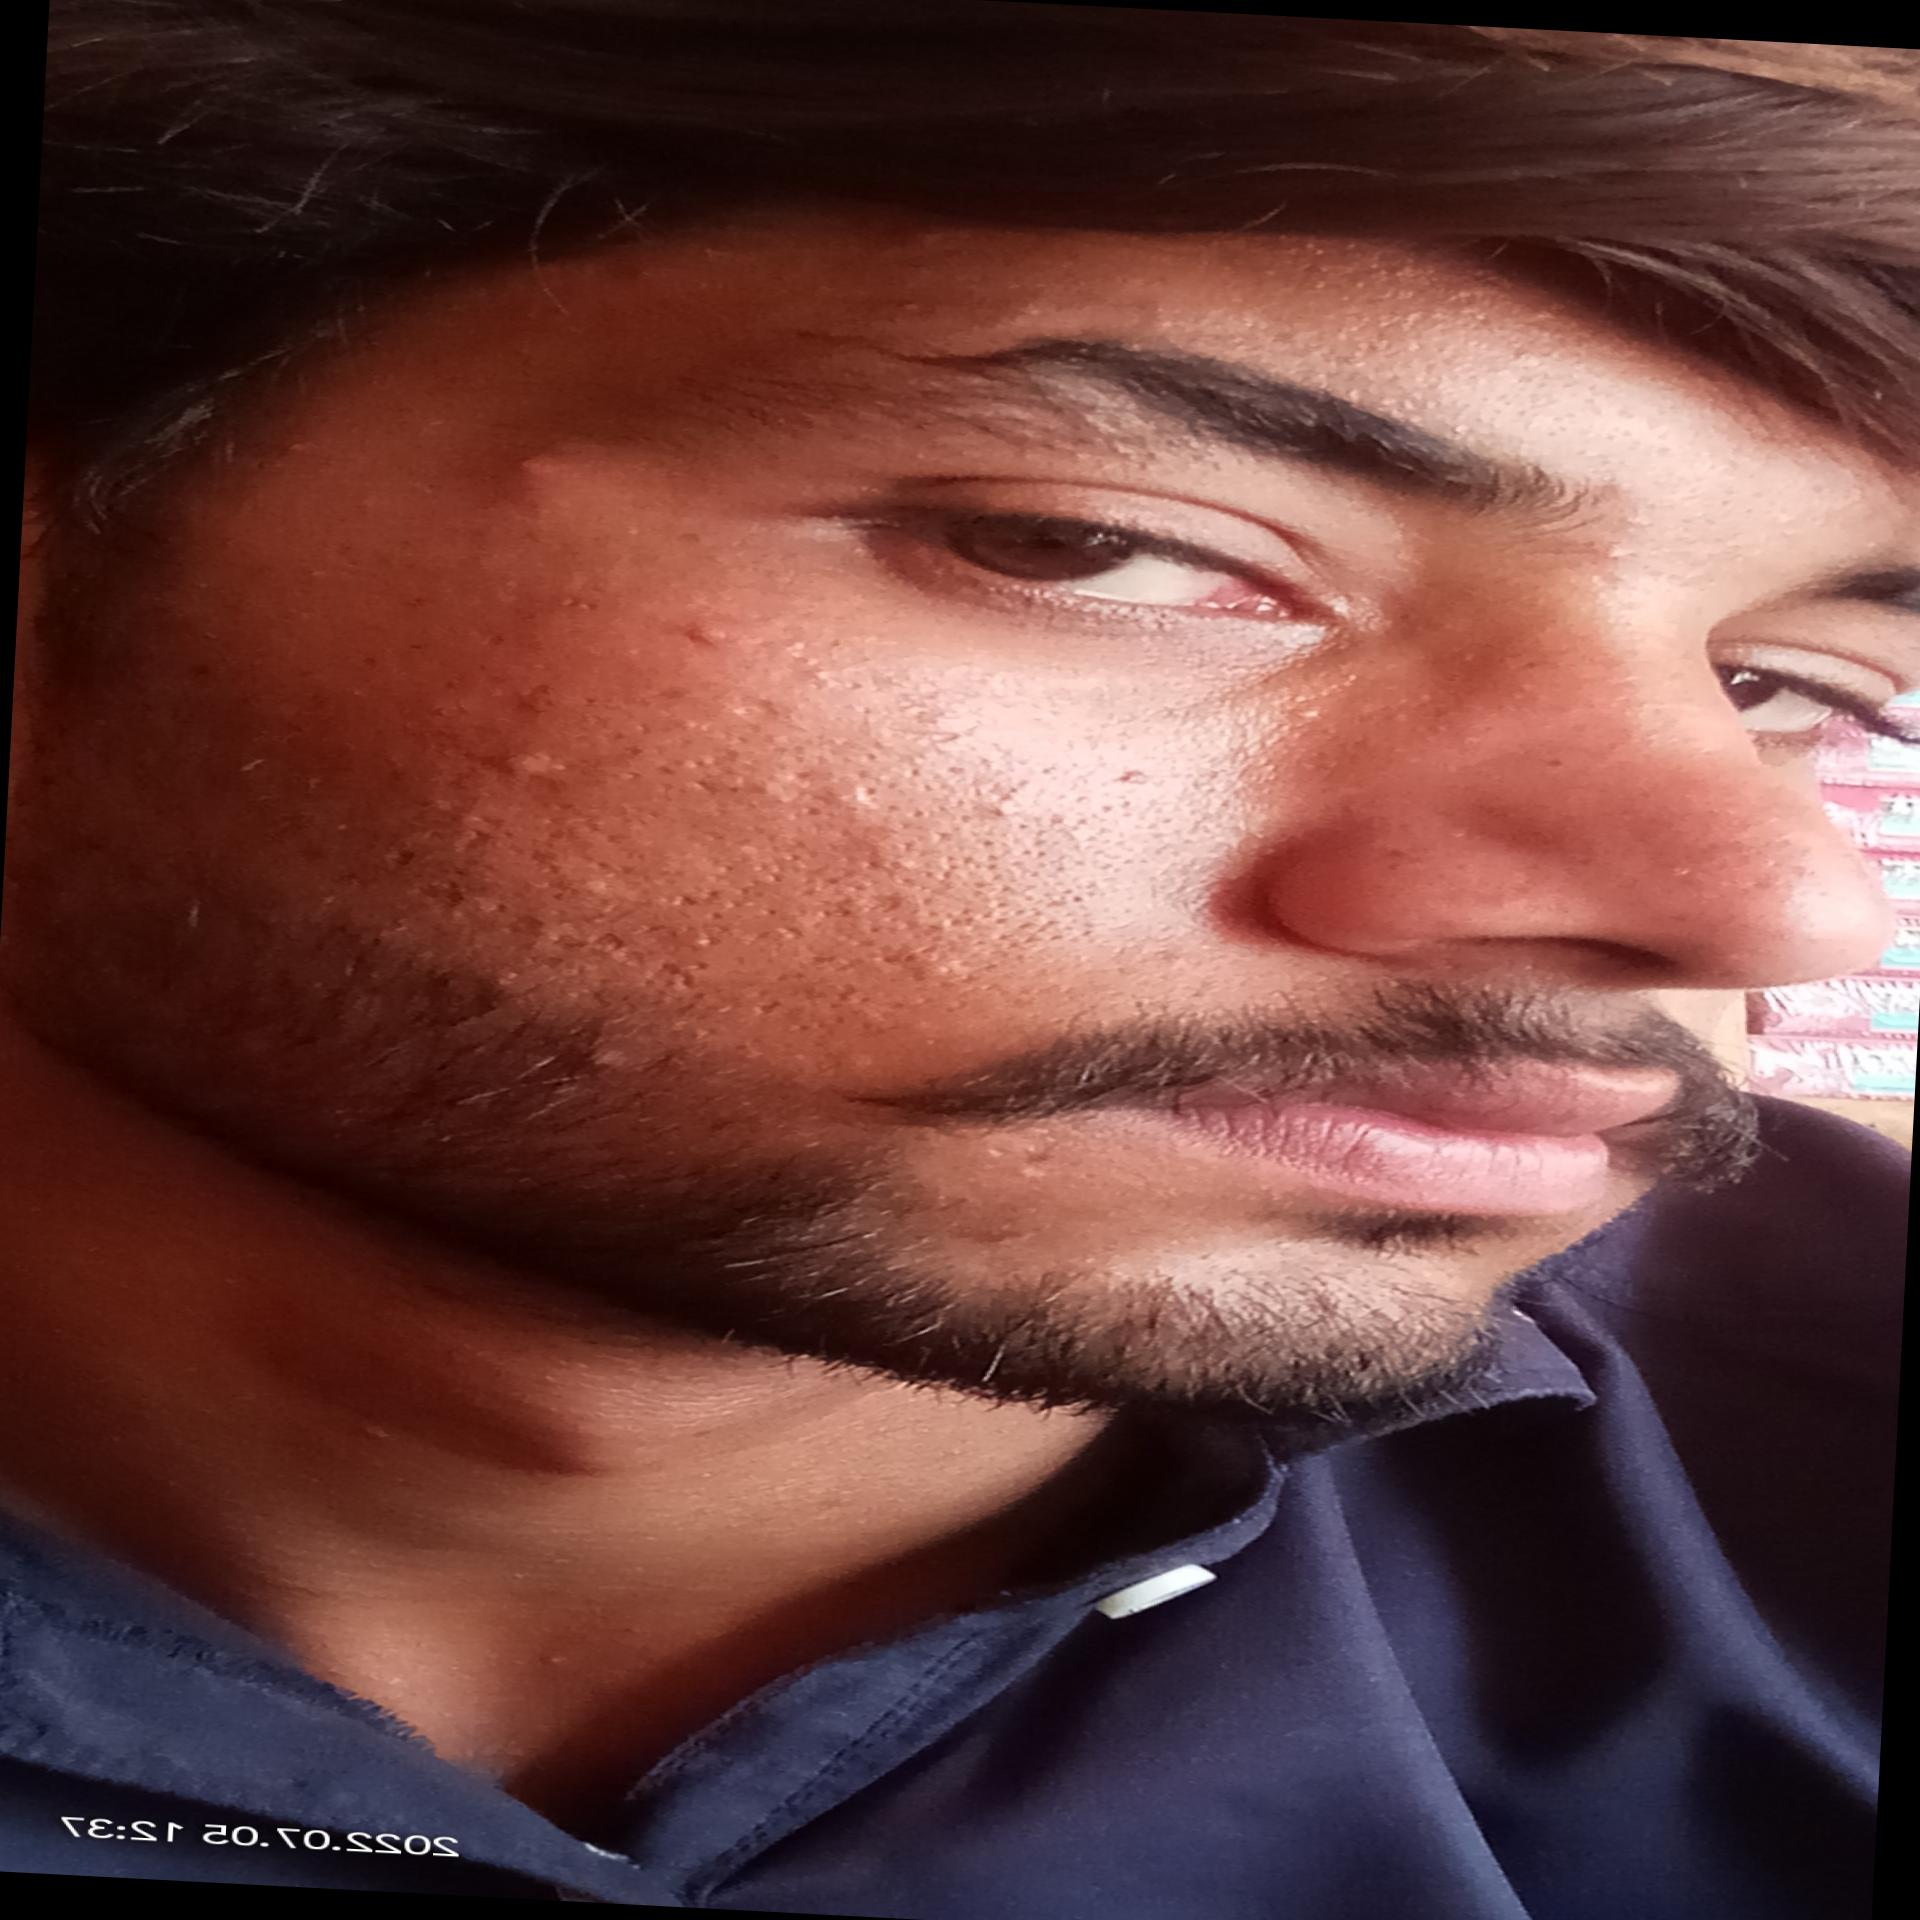Acne: (475, 438, 594, 494), (893, 941, 985, 997), (814, 772, 914, 823), (960, 299, 1046, 343), (677, 612, 760, 652), (476, 738, 556, 777), (601, 257, 666, 302), (570, 1039, 635, 1083), (536, 585, 610, 624), (267, 424, 324, 468), (1591, 535, 1644, 570), (1275, 702, 1335, 724)
Englarged Pores: (566, 703, 1116, 976), (360, 798, 751, 971)
